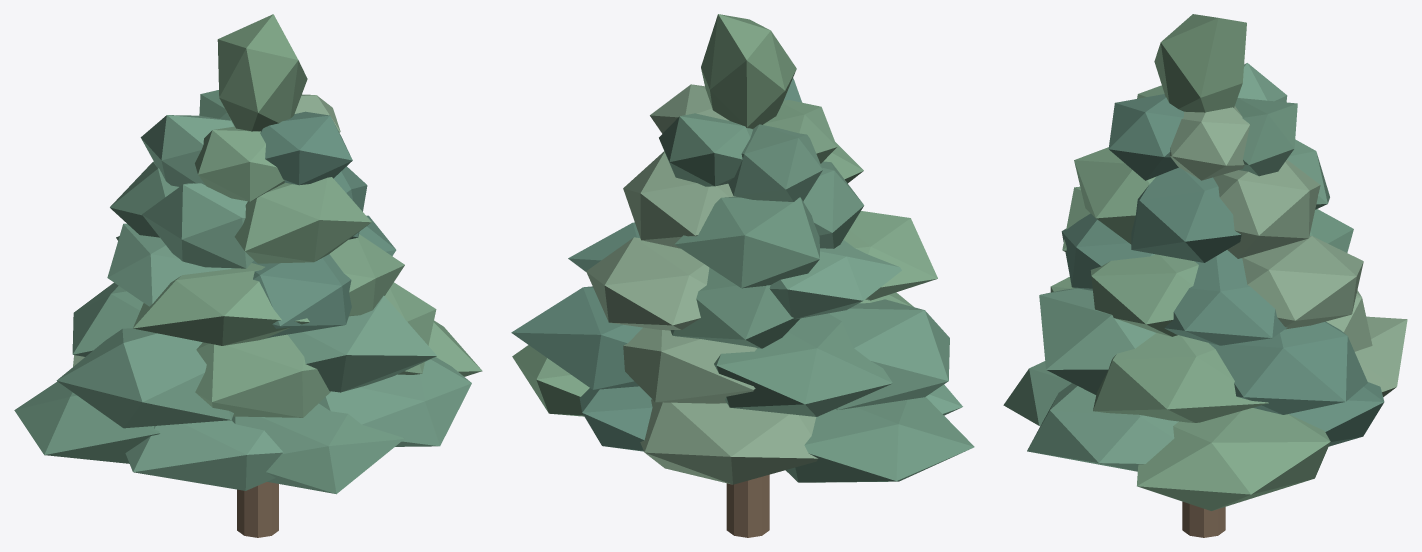
Rendered from pine.glb.
The picture shows the model from 3 angles, left to right: view 1: azimuth 30°, elevation 25°; view 2: azimuth 150°, elevation 25°; view 3: azimuth 270°, elevation 25°; orthographic projection. The views are drawn at different scales.
Visible parts, largest first — view 1: world; view 2: world; view 3: world.
Part boxes in pixels (<box>): world: <box>14,14,482,537</box>; world: <box>511,14,974,537</box>; world: <box>1003,14,1407,537</box>.
Bounding box in the file's own units: 5.08 × 5.74 × 4.03.
